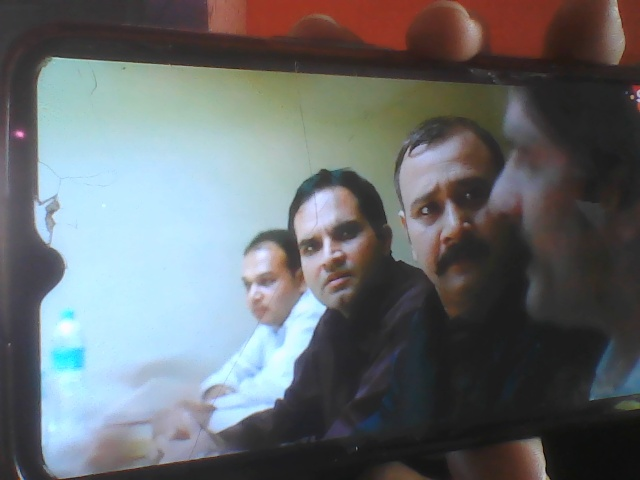fake: (287, 147, 408, 318)
